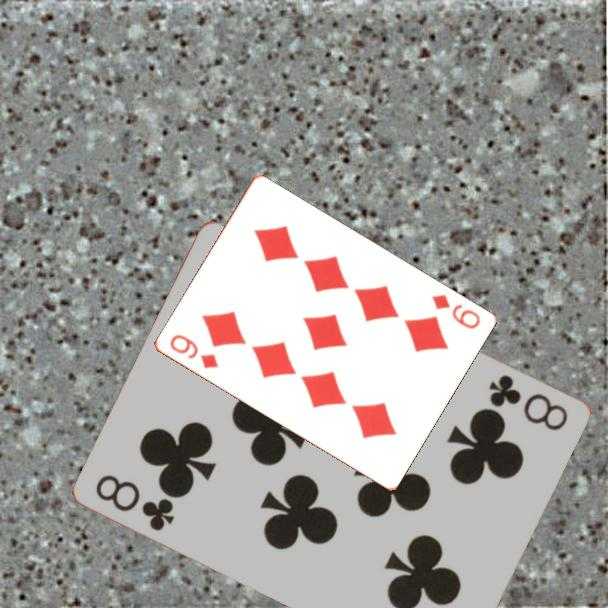c08: (485, 370, 572, 434), (92, 471, 178, 534)
d09: (166, 331, 221, 372), (428, 291, 483, 332)
